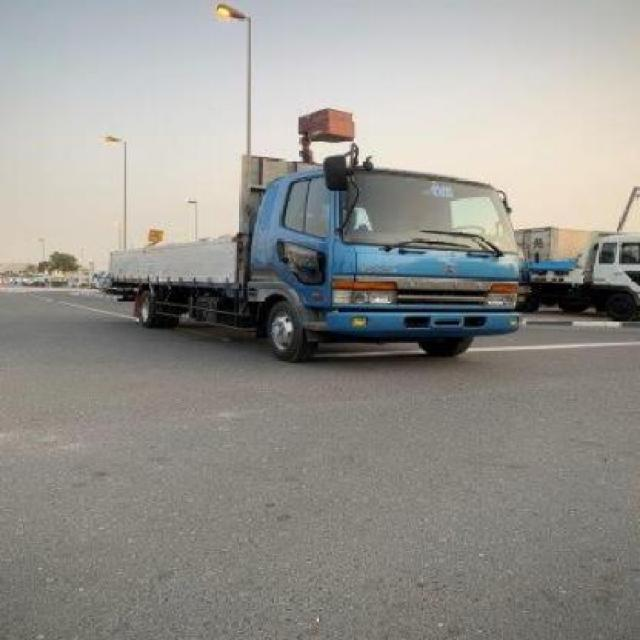truck: (108, 150, 529, 363)
